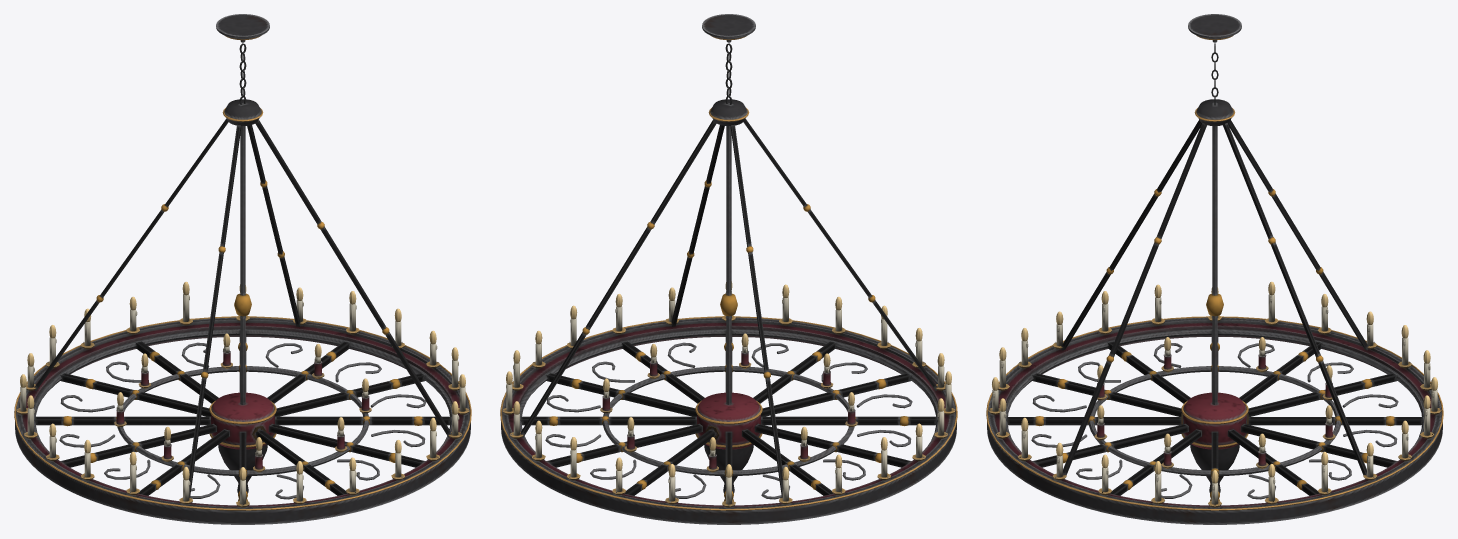
Rendered from ChandelierGreatWheel.fbx.
3 views of the same model, side by side, from view 1: azimuth 30°, elevation 25°; view 2: azimuth 150°, elevation 25°; view 3: azimuth 270°, elevation 25° (orthographic).
Parts seen in each view (by area): view 1: ChandelierGreatWheel_Main, ChandelierGreatWheel_Glow; view 2: ChandelierGreatWheel_Main, ChandelierGreatWheel_Glow; view 3: ChandelierGreatWheel_Main, ChandelierGreatWheel_Glow.
Part boxes in pixels (x1=…): ChandelierGreatWheel_Main: x1=14, y1=14, x2=471, y2=524; ChandelierGreatWheel_Glow: x1=20, y1=281, x2=465, y2=480; ChandelierGreatWheel_Main: x1=500, y1=14, x2=957, y2=524; ChandelierGreatWheel_Glow: x1=506, y1=281, x2=951, y2=480; ChandelierGreatWheel_Main: x1=986, y1=14, x2=1443, y2=524; ChandelierGreatWheel_Glow: x1=992, y1=281, x2=1437, y2=483.
Size of the model in its own units: 713 by 826 by 713.
